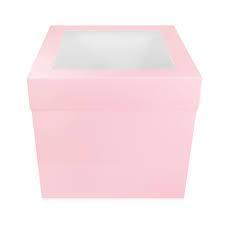box: (27, 25, 202, 198)
